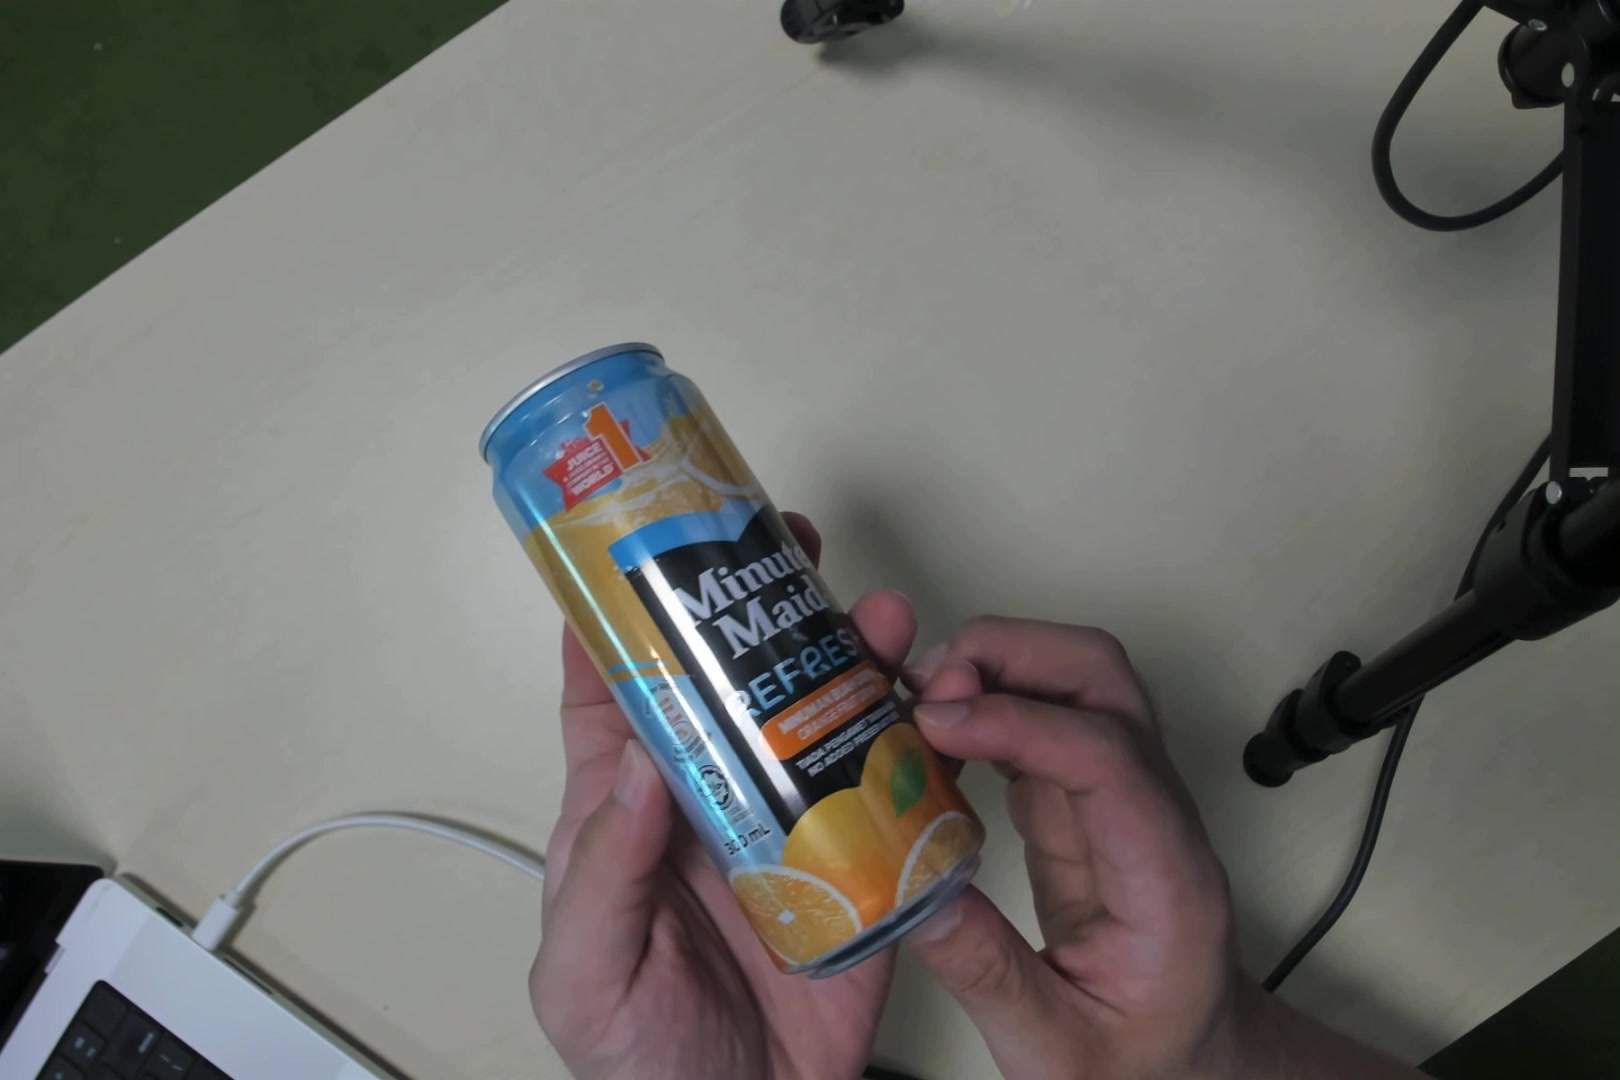SoftDrinks_200-299g_Halal_Healthy: (517, 397, 979, 967)
